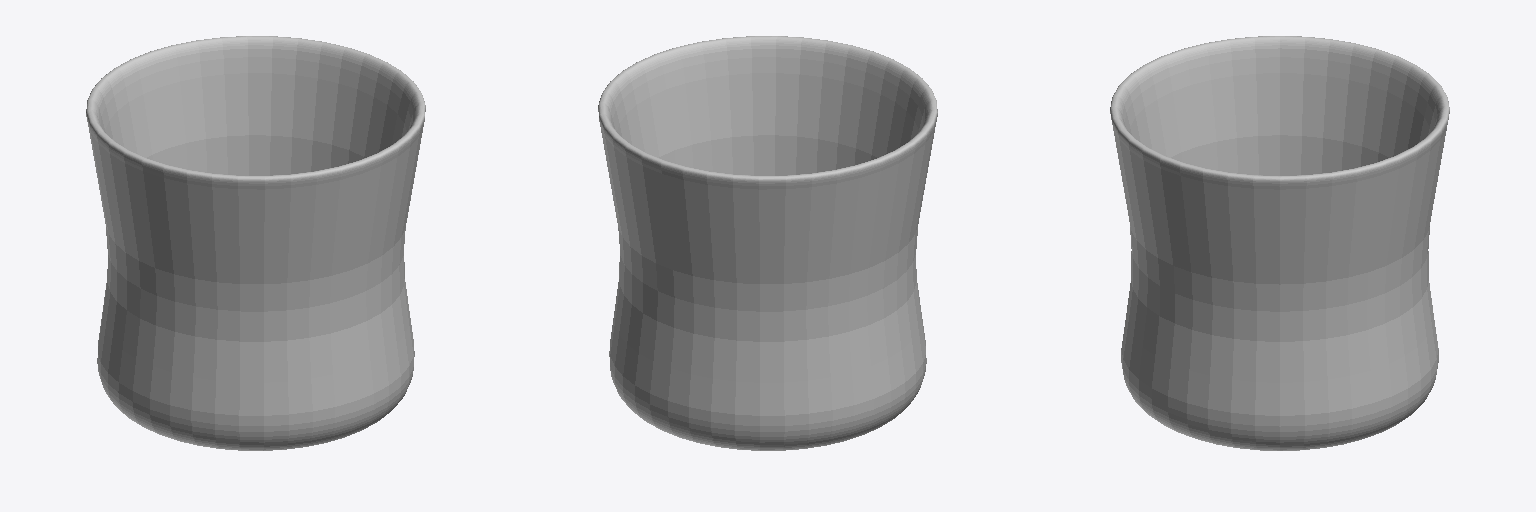
The model's file is cup.obj.
3 renders of one model, left to right at view 1: azimuth 30°, elevation 25°; view 2: azimuth 150°, elevation 25°; view 3: azimuth 270°, elevation 25°, orthographic.
Visible parts, largest first — view 1: Object CUP; view 2: Object CUP; view 3: Object CUP.
Boxes of the visible parts, x1=… form: Object CUP: x1=86, y1=36, x2=425, y2=450; Object CUP: x1=598, y1=36, x2=937, y2=450; Object CUP: x1=1110, y1=36, x2=1449, y2=450.
Bounding box in the file's own units: 397 × 385 × 397.